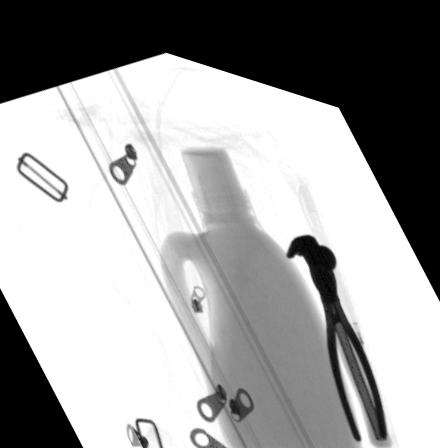Hammer: (286, 211, 393, 424)
Pliers: (307, 229, 387, 416)
